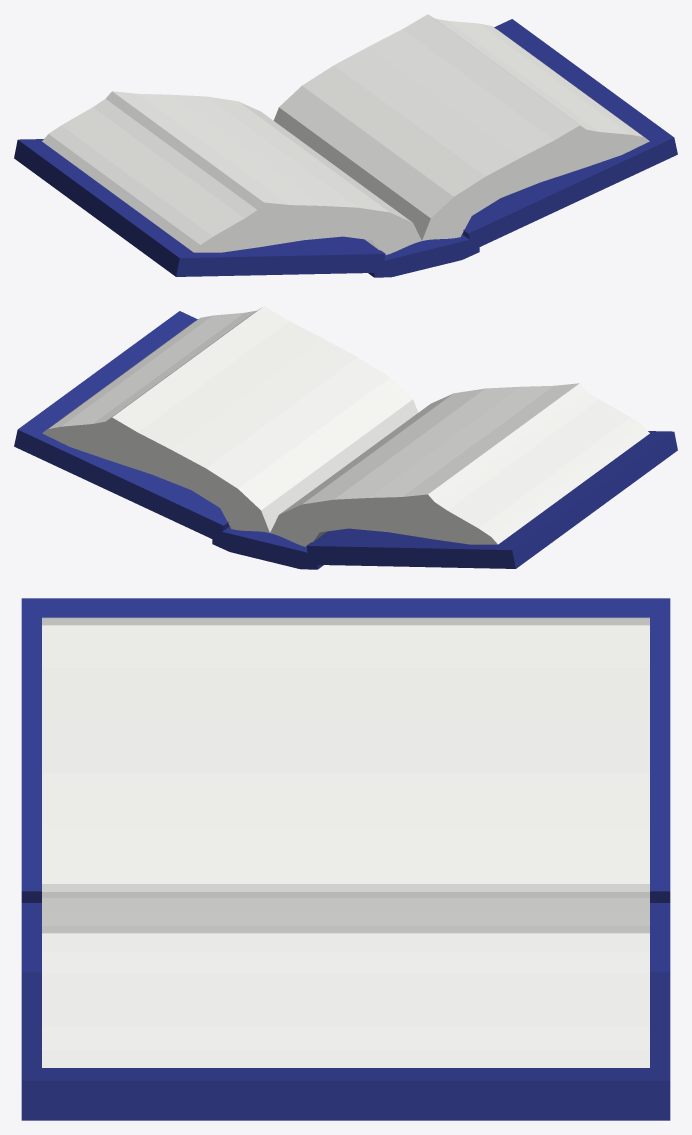
The model's file is open book no pages v1 v1.fbx.
The picture shows the model from 3 angles, top to bottom: view 1: azimuth 30°, elevation 25°; view 2: azimuth 150°, elevation 25°; view 3: azimuth 270°, elevation 25°; orthographic projection. The views are drawn at different scales.
Parts seen in each view (by area): view 1: box21 (3), box21 (2), box21 (1), box21; view 2: box21 (3), box21 (2), box21 (1), box21; view 3: box21 (3), box21 (1), box21 (2), box21.
Part boxes in pixels (x1,y1,x2,y2): box21 (3): (42, 14, 649, 255); box21 (2): (14, 139, 385, 276); box21 (1): (462, 19, 677, 250); box21: (368, 234, 479, 277); box21 (3): (42, 306, 649, 547); box21 (2): (306, 431, 677, 568); box21 (1): (14, 311, 229, 541); box21: (212, 526, 323, 569); box21 (3): (42, 617, 649, 1067); box21 (1): (21, 972, 670, 1120); box21 (2): (21, 598, 670, 902); box21: (21, 903, 670, 971).
Size of the model in its own units: 5.63 by 1.08 by 3.15.
